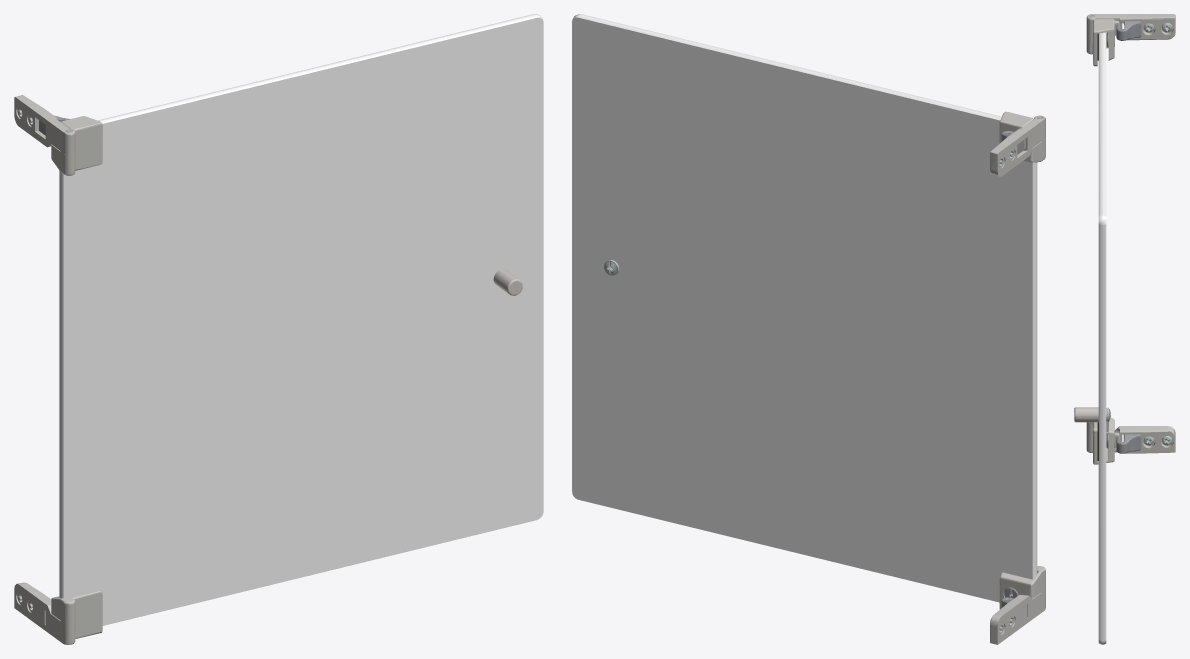
The model's file is 74 - EKET - 玻璃門板, 透明玻璃, 31x31 公分 IKEA 線上購物.glb.
3 views of the same model, side by side, from view 1: azimuth 30°, elevation 25°; view 2: azimuth 150°, elevation 25°; view 3: azimuth 270°, elevation 25° (orthographic). The views are drawn at different scales.
Parts seen in each view (by area): view 1: 2, 1; view 2: 2, 1; view 3: 1, 2.
Part boxes in pixels (x1,y1,x2,y2): 2: (59, 14, 543, 625); 1: (14, 95, 522, 644); 2: (572, 14, 1037, 602); 1: (604, 111, 1045, 644); 1: (1074, 14, 1175, 464); 2: (1098, 32, 1106, 644).
Size of the model in its own units: 0.3128 by 0.3152 by 0.0665.
Materials: 2 (2 with a texture image).
